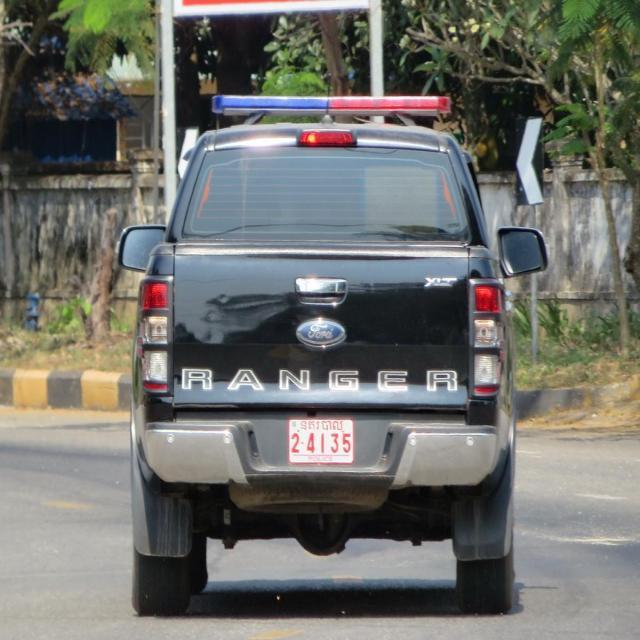Police: (299, 420, 343, 432)
